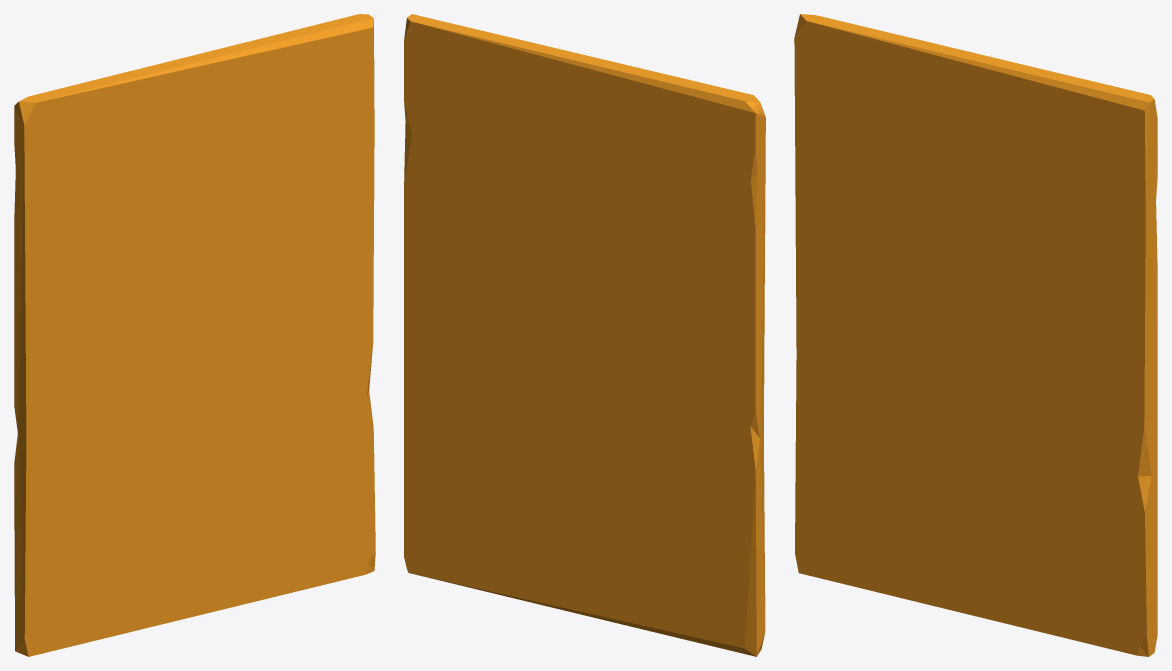
The model's file is SM_Buildings_Wall_2x3_01P.fbx.
3 renders of one model, left to right at view 1: azimuth 30°, elevation 25°; view 2: azimuth 150°, elevation 25°; view 3: azimuth 330°, elevation 25°, orthographic.
Visible parts, largest first — view 1: SM_Buildings_Wall_2x3_01P; view 2: SM_Buildings_Wall_2x3_01P; view 3: SM_Buildings_Wall_2x3_01P.
Boxes of the visible parts, bbox=[...] form: SM_Buildings_Wall_2x3_01P: bbox=[14, 14, 375, 656]; SM_Buildings_Wall_2x3_01P: bbox=[404, 14, 765, 656]; SM_Buildings_Wall_2x3_01P: bbox=[794, 14, 1157, 656].
Bounding box in the file's own units: 200 × 300 × 10.
